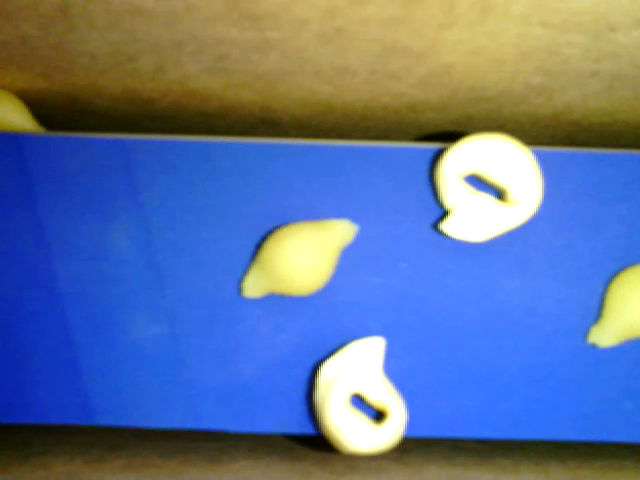shell: (237, 220, 361, 299), (583, 265, 639, 351), (1, 86, 47, 135)
tortellini: (431, 130, 545, 243), (312, 330, 407, 457)
